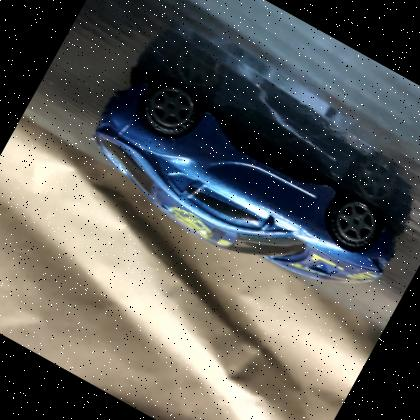Car: (93, 77, 397, 284)
